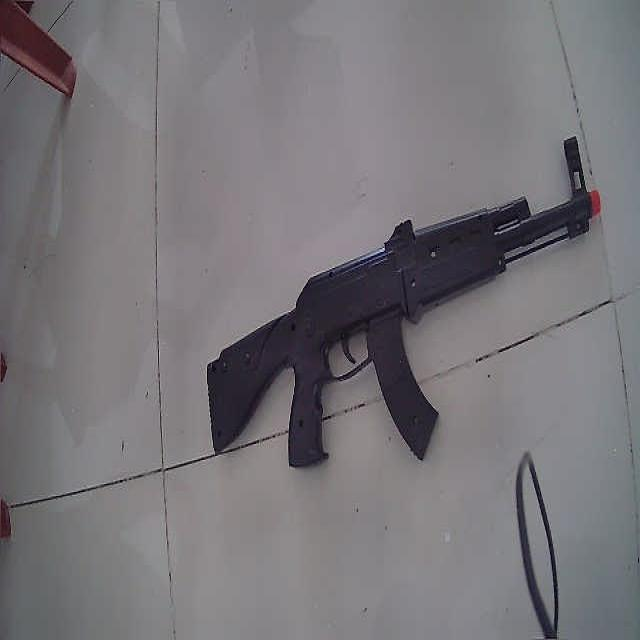rifle: (206, 136, 602, 468)
